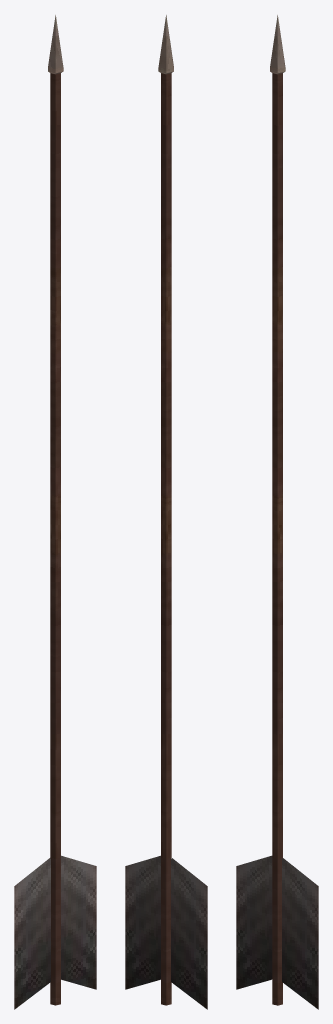
The model's file is natural-arrow-clear.glb.
3 views of the same model, side by side, from view 1: azimuth 30°, elevation 25°; view 2: azimuth 150°, elevation 25°; view 3: azimuth 330°, elevation 25° (orthographic).
Visible parts, largest first — view 1: natural-arrow-clear runtime mesh; view 2: natural-arrow-clear runtime mesh; view 3: natural-arrow-clear runtime mesh.
Part boxes in pixels (<box>): natural-arrow-clear runtime mesh: <box>14,15,96,1009</box>; natural-arrow-clear runtime mesh: <box>125,15,207,1009</box>; natural-arrow-clear runtime mesh: <box>236,15,318,1009</box>.
Bounding box in the file's own units: 0.0629 × 0.72 × 0.0103.
Materials: 1 (1 with a texture image).
